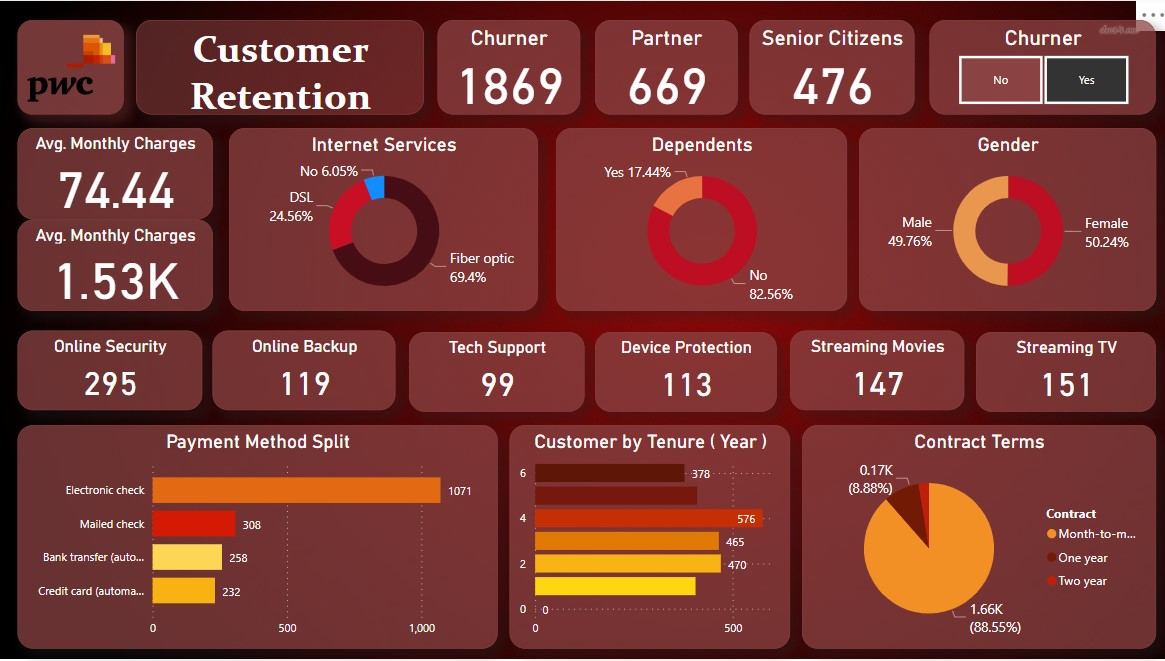

The dashboard page shown, as its layout file describes it:
{"tool":"powerbi","page":{"name":"Customer Retention","canvas":[1280,720],"ordinal":1},"visuals":[{"type":"image","box":[9.7,0,1270.1,720],"z":0},{"type":"image","box":[34,25.9,114.9,101.9],"z":1000},{"type":"textbox","title":"Customer Retention","box":[161.8,25.9,310.7,101.9],"z":2000},{"type":"card","title":"Churner","fields":{"Values":["CountNonNull(01 Churn-Dataset.Churn)"]},"box":[487,25.9,153.7,101.9],"z":3000},{"type":"card","title":"Partner","fields":{"Values":["CountNonNull(01 Churn-Dataset.Partner)"]},"box":[656.9,25.9,153.7,101.9],"z":4000},{"type":"card","title":"Senior Citizens","fields":{"Values":["Sum(01 Churn-Dataset.SeniorCitizen)"]},"box":[823.6,25.9,178,101.9],"z":5000},{"type":"slicer","title":"Churner","fields":{"Values":["01 Churn-Dataset.Churn"]},"box":[1017.7,25.9,244.3,101.9],"z":6000},{"type":"card","title":"Avg. Monthly Charges","fields":{"Values":["Avg(01 Churn-Dataset.MonthlyCharges)"]},"box":[34,142.4,210.3,98.7],"z":7000},{"type":"card","title":"Avg. Monthly Charges","fields":{"Values":["Avg(01 Churn-Dataset.TotalCharges)"]},"box":[34,241.1,210.3,98.7],"z":8000},{"type":"donutChart","title":"Internet Services","fields":{"Y":["CountNonNull(01 Churn-Dataset.InternetService)"],"Category":["01 Churn-Dataset.InternetService"]},"box":[262.1,142.4,333.3,197.4],"z":9000},{"type":"donutChart","title":"Dependents","fields":{"Category":["01 Churn-Dataset.Dependents"],"Y":["CountNonNull(01 Churn-Dataset.Dependents)"]},"box":[614.8,142.4,313.9,197.4],"z":10000},{"type":"donutChart","title":"Gender","fields":{"Category":["01 Churn-Dataset.gender"],"Y":["CountNonNull(01 Churn-Dataset.gender)"]},"box":[941.7,142.4,320.4,197.4],"z":11000},{"type":"card","title":"Online Security","fields":{"Values":["CountNonNull(01 Churn-Dataset.OnlineSecurity)"]},"box":[34,360.8,199,85.8],"z":12000},{"type":"card","title":"Online Backup","fields":{"Values":["CountNonNull(01 Churn-Dataset.OnlineBackup)"]},"box":[244.3,360.8,197.4,85.8],"z":13000},{"type":"card","title":"Tech Support","fields":{"Values":["CountNonNull(01 Churn-Dataset.TechSupport)"]},"box":[456.3,362.4,189.3,85.8],"z":14000},{"type":"card","title":"Device Protection","fields":{"Values":["CountNonNull(01 Churn-Dataset.DeviceProtection)"]},"box":[656.9,362.4,195.8,85.8],"z":15000},{"type":"card","title":"Streaming Movies","fields":{"Values":["CountNonNull(01 Churn-Dataset.StreamingMovies)"]},"box":[867.2,360.8,187.7,85.8],"z":16000},{"type":"card","title":"Streaming TV","fields":{"Values":["CountNonNull(01 Churn-Dataset.StreamingTV)"]},"box":[1067.9,362.4,194.2,85.8],"z":17000},{"type":"barChart","title":"Payment Method Split","fields":{"Category":["01 Churn-Dataset.PaymentMethod"],"Y":["CountNonNull(01 Churn-Dataset.PaymentMethod)"]},"box":[34,462.7,517.8,241.1],"z":18000},{"type":"barChart","title":"Customer by Tenure ( Year ) ","fields":{"Category":["01 Churn-Dataset.TEnure.1"],"Y":["Sum(01 Churn-Dataset.TEnure.1)"]},"box":[564.7,462.7,302.6,241.1],"z":19000},{"type":"pieChart","title":"Contract Terms","fields":{"Category":["01 Churn-Dataset.Contract"],"Y":["CountNonNull(01 Churn-Dataset.Contract)"]},"box":[880.2,462.7,381.8,241.1],"z":20000}]}

Visuals, with their boxes in screenshot pixels (x1, y1, x2, y2), scaled from the page's 1280x720 canvas onto the 1165x661 screenshot:
image: 9 0 1164 660
image: 31 24 136 117
"Customer Retention" textbox: 147 24 430 117
"Churner" card: 443 24 583 117
"Partner" card: 598 24 738 117
"Senior Citizens" card: 750 24 912 117
"Churner" slicer: 926 24 1149 117
"Avg. Monthly Charges" card: 31 131 222 221
"Avg. Monthly Charges" card: 31 221 222 312
"Internet Services" donutChart: 239 131 542 312
"Dependents" donutChart: 560 131 845 312
"Gender" donutChart: 857 131 1149 312
"Online Security" card: 31 331 212 410
"Online Backup" card: 222 331 402 410
"Tech Support" card: 415 333 588 411
"Device Protection" card: 598 333 776 411
"Streaming Movies" card: 789 331 960 410
"Streaming TV" card: 972 333 1149 411
"Payment Method Split" barChart: 31 425 502 646
"Customer by Tenure ( Year ) " barChart: 514 425 789 646
"Contract Terms" pieChart: 801 425 1149 646
